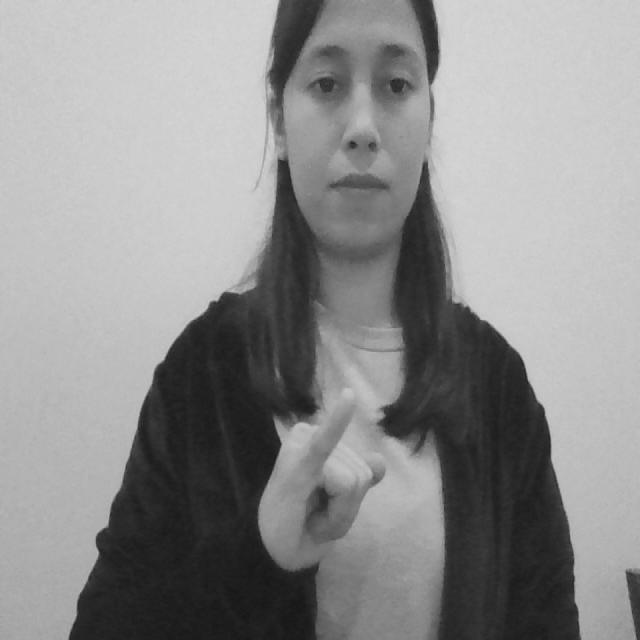kotu: (256, 368, 391, 566)
